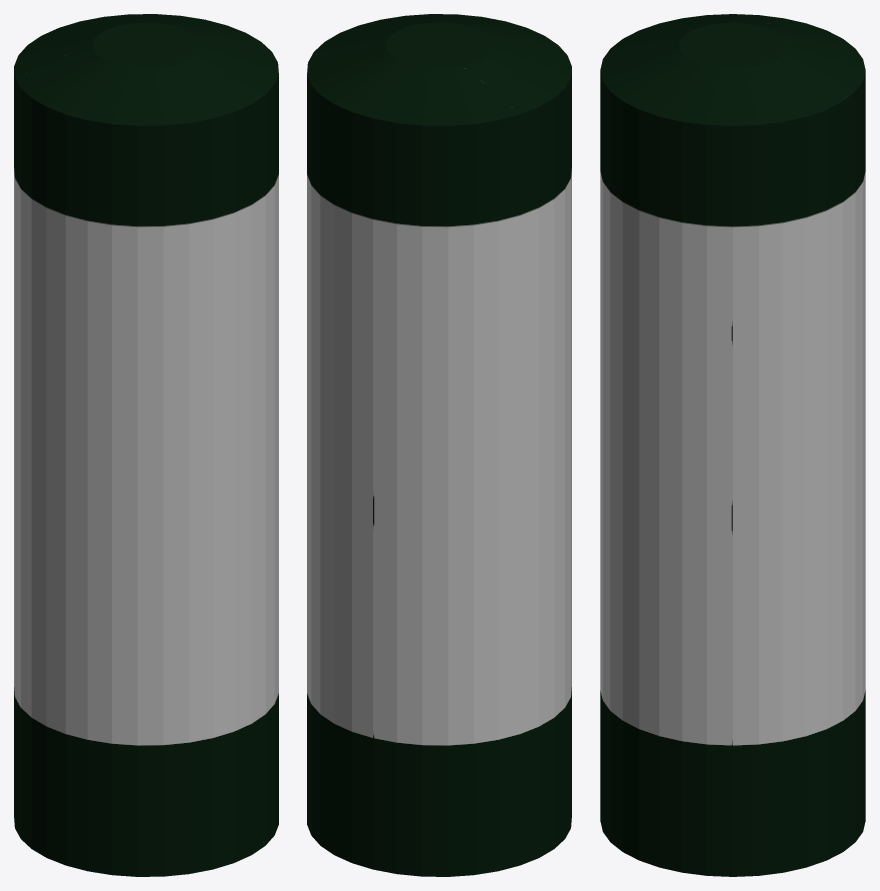
The model's file is chemlight.glb.
3 renders of one model, left to right at view 1: azimuth 30°, elevation 25°; view 2: azimuth 150°, elevation 25°; view 3: azimuth 270°, elevation 25°, orthographic.
Visible parts, largest first — view 1: Chemlight; view 2: Chemlight; view 3: Chemlight.
Part boxes in pixels (left/top/right/bottom): Chemlight: left=14, top=14, right=278, bottom=876; Chemlight: left=307, top=14, right=571, bottom=876; Chemlight: left=600, top=14, right=865, bottom=876.
Size of the model in its own units: 0.6977 by 2.29 by 0.6977.
1 material, 1 textured.
